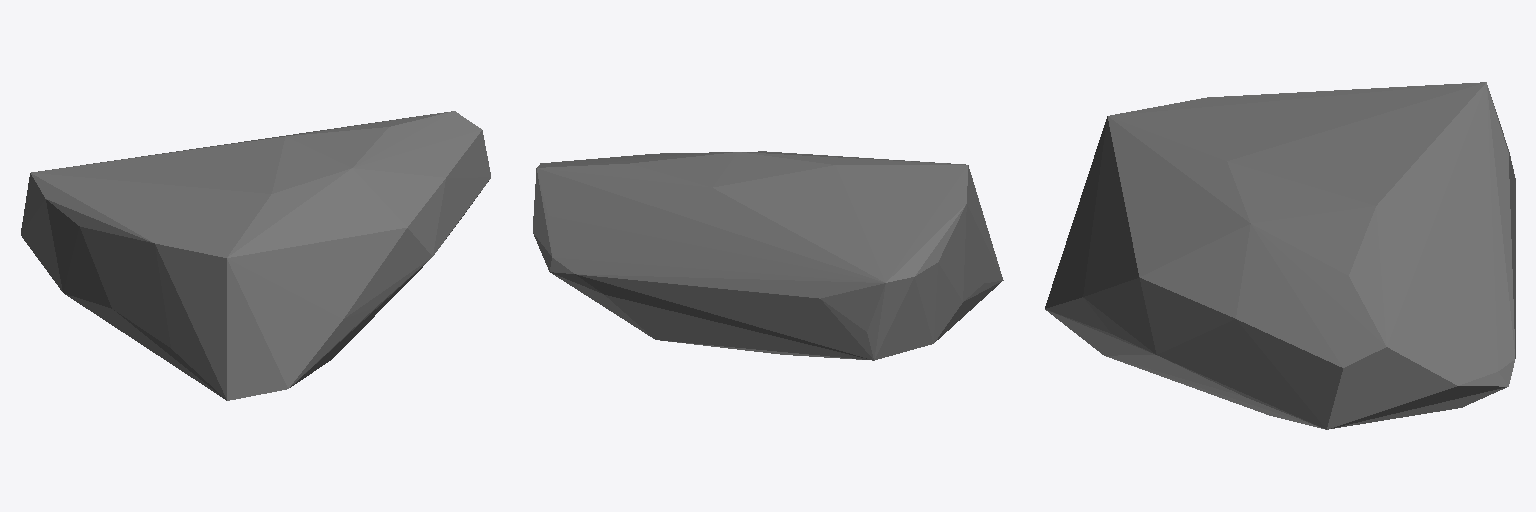
robot.urdf — 25_786:
<?xml version="1.0"?>
<robot name="25_786">
  <link name="link">
    <contact>
      <lateral_friction value="0.6"/>
    </contact>
    <inertial>
      <mass value = "0.46362376198777605"/>
      <inertia ixx="0.000210246253880323" ixy="3.024564272984009e-05" ixz="3.65212451855995e-06" iyy="0.000353056442186804" iyz="7.98533582032402e-06" izz="0.0004886952077570581" />
    </inertial>
    <visual name="visual">
      <geometry>
        <mesh filename="25_786.obj"/>
      </geometry>
      <material name="material">
        <color rgba="0.49757593124766364 0.49757593124766364 0.49757593124766364 1.0"/>
      </material>
    </visual>
    <collision name="collision">
      <geometry>
        <mesh filename="25_786.obj"/>
      </geometry>
    </collision>
  </link>
</robot>

--- Facts derived from the render (not from the file) ---
The picture shows the robot from 3 angles, left to right: view 1: azimuth 30°, elevation 25°; view 2: azimuth 150°, elevation 25°; view 3: azimuth 270°, elevation 25°; orthographic projection.
Robot: 25_786 — 1 links, 0 joints (none); root link link; default pose: all joints at 0.
Visible links, largest first — view 1: link; view 2: link; view 3: link.
Link boxes in pixels (<box>): link: <box>21,111,490,400</box>; link: <box>533,151,1003,360</box>; link: <box>1045,82,1515,429</box>.
Size in the robot's own frame: 0.1149 by 0.0842 by 0.0365 metres.
1 mesh visuals loaded from 1 distinct referenced files (1 OBJ).
